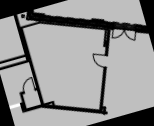door: (108, 21, 140, 49), (90, 48, 111, 70), (18, 76, 37, 94)
wall: (24, 0, 150, 69), (22, 0, 149, 67), (39, 90, 105, 126), (85, 65, 119, 116), (12, 14, 37, 64), (27, 60, 46, 107), (99, 27, 119, 56), (20, 99, 56, 114), (13, 90, 30, 116)
